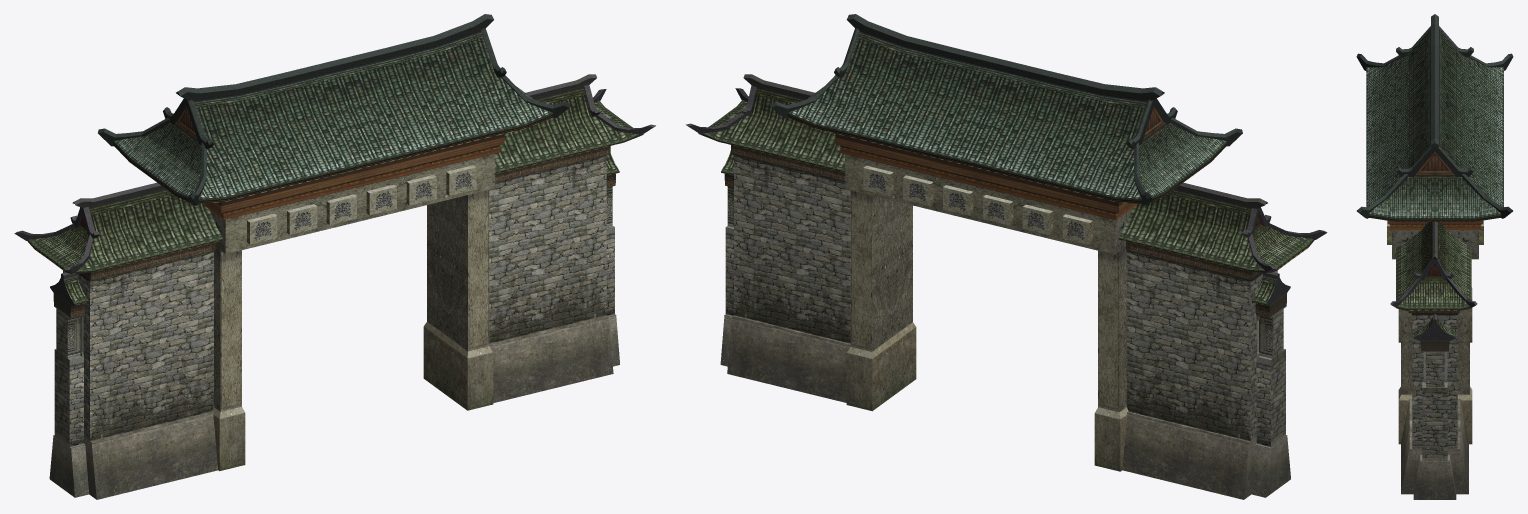
Rendered from c1-middledam-01.fbx.
The picture shows the model from 3 angles, left to right: view 1: azimuth 30°, elevation 25°; view 2: azimuth 150°, elevation 25°; view 3: azimuth 270°, elevation 25°; orthographic projection. The views are drawn at different scales.
Parts seen in each view (by area): view 1: Object01; view 2: Object01; view 3: Object01.
Boxes of the visible parts, x1,y1,x2,y2 form: Object01: (14,14,655,499); Object01: (686,14,1327,499); Object01: (1356,14,1513,499).
Size of the model in its own units: 22.82 by 13.67 by 6.24.
